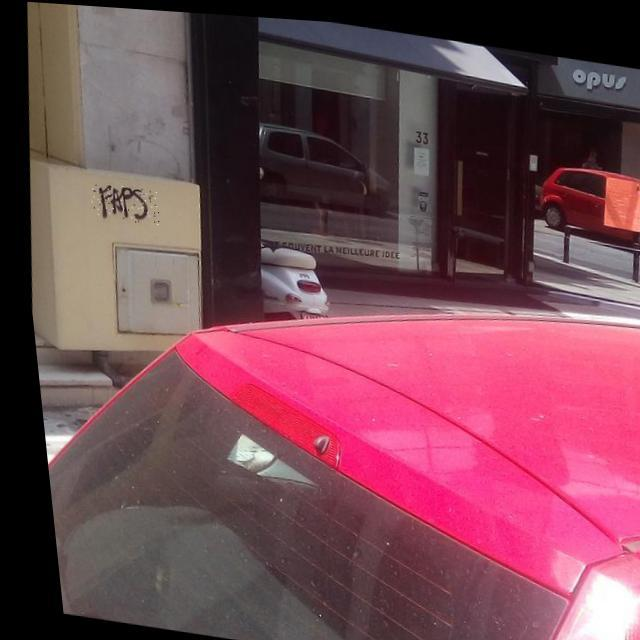-: (84, 180, 158, 224)
